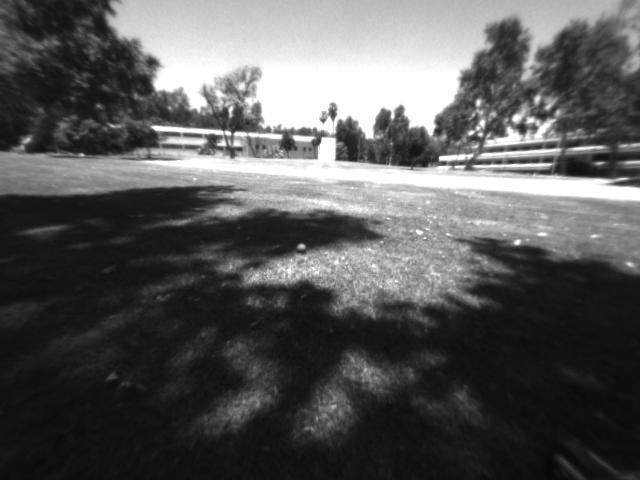dogtoy: (293, 239, 311, 256)
